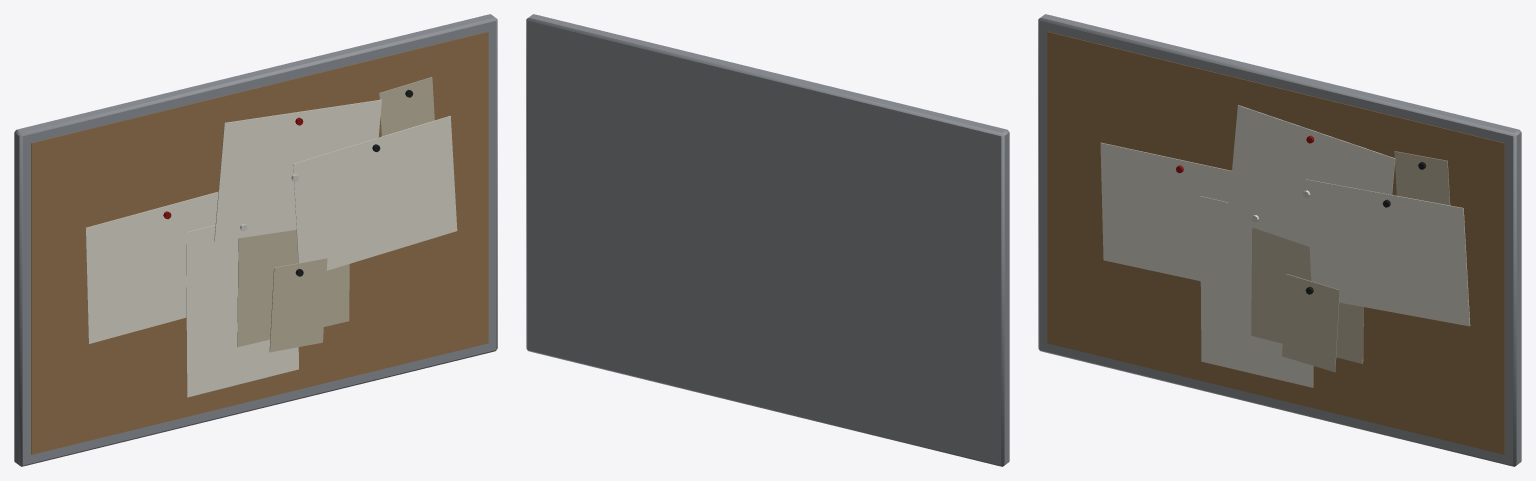
File: board.glb
The picture shows the model from 3 angles, left to right: view 1: azimuth 30°, elevation 25°; view 2: azimuth 150°, elevation 25°; view 3: azimuth 330°, elevation 25°; orthographic projection.
Parts seen in each view (by area): view 1: board; view 2: board; view 3: board.
Part boxes in pixels (x1,y1,x2,y2): board: [14, 14, 497, 466]; board: [526, 14, 1009, 466]; board: [1038, 14, 1521, 466].
Bounding box in the file's own units: 0.9 × 0.6 × 0.0378.
